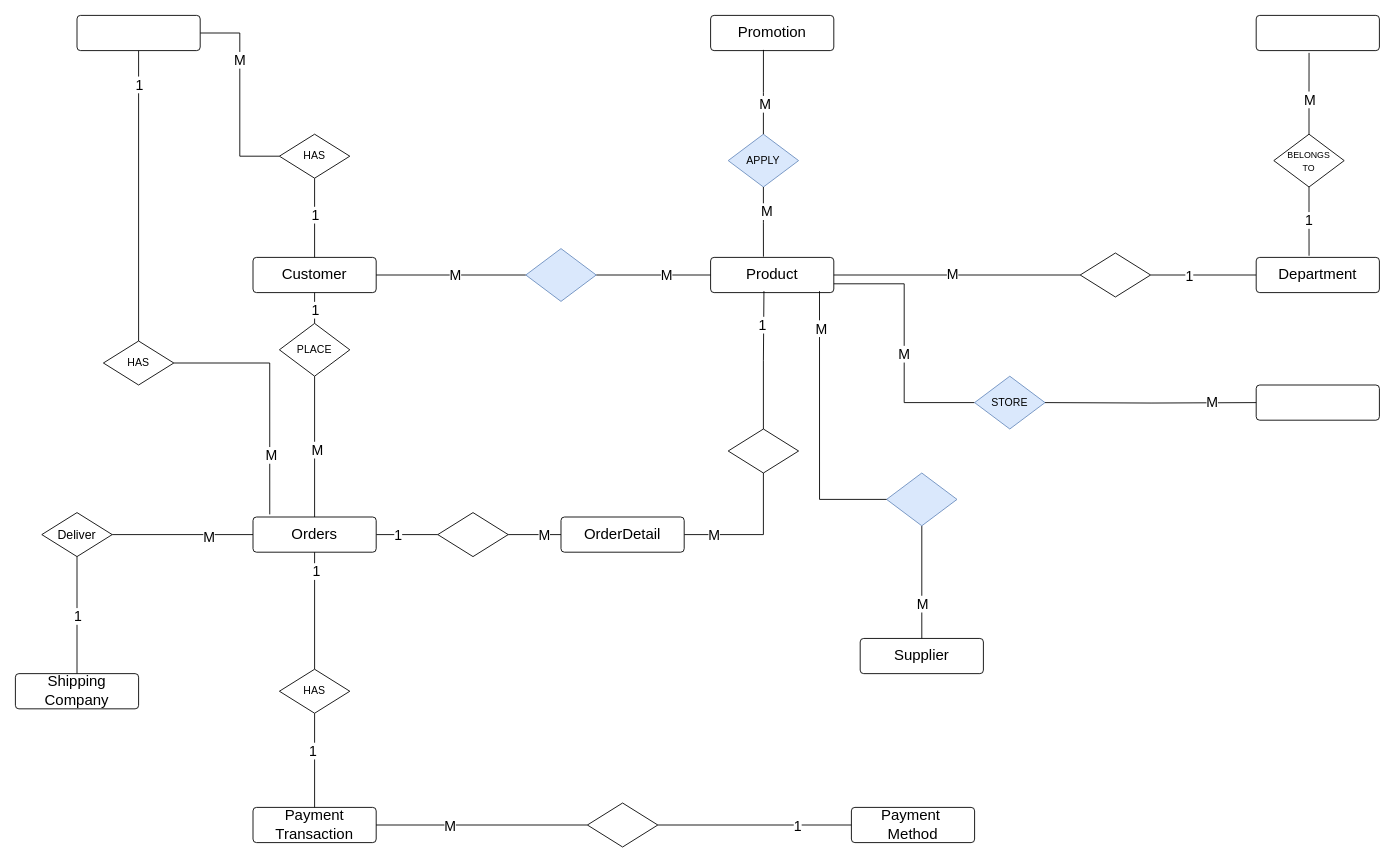
Some shapes in this 1395 by 862 pixel diagram are drawn without their labels. The shapes that lost their labels are listed below. From the top down, each one's centre as x and y in pixels, then its label:
At (138,33): "Address".
At (1317,33): "Employee".
At (560,274): "REVIEW".
At (1115,274): "Categorize".
At (1317,402): "Warehouse".
At (763,450): "Appears".
At (921,499): "SUPPLIES".
At (472,534): "Contains".
At (622,824): "Use".
